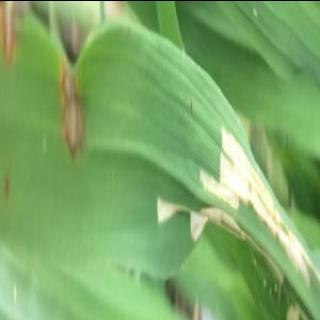Blast: (55, 64, 89, 158)
